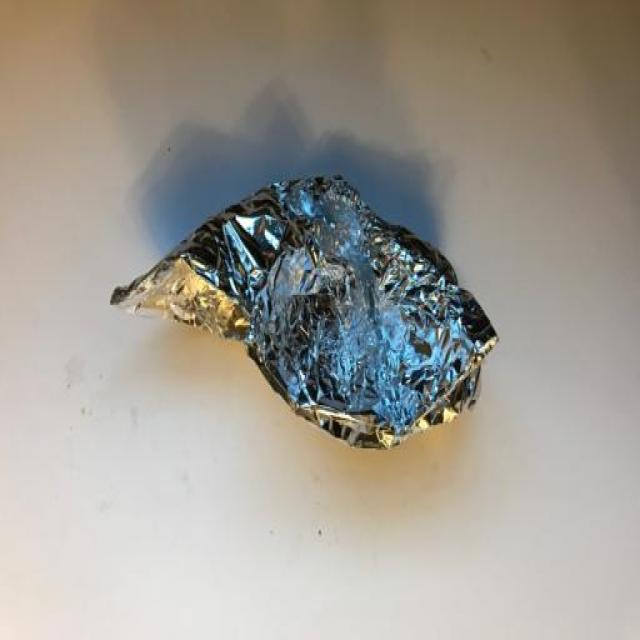others: (93, 169, 544, 480)
